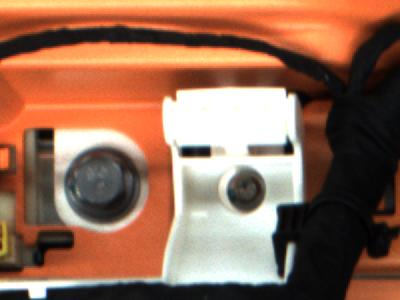nut_b: (59, 144, 145, 225)
